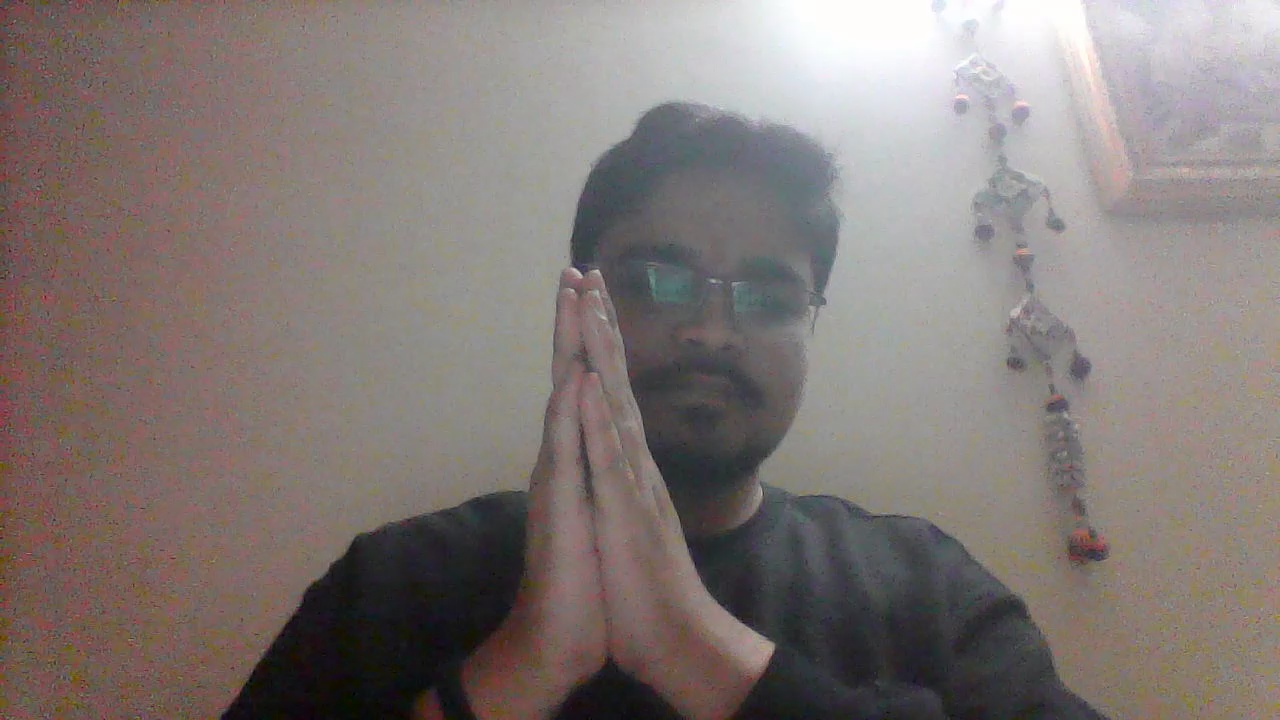Namaste: (490, 266, 699, 680)
